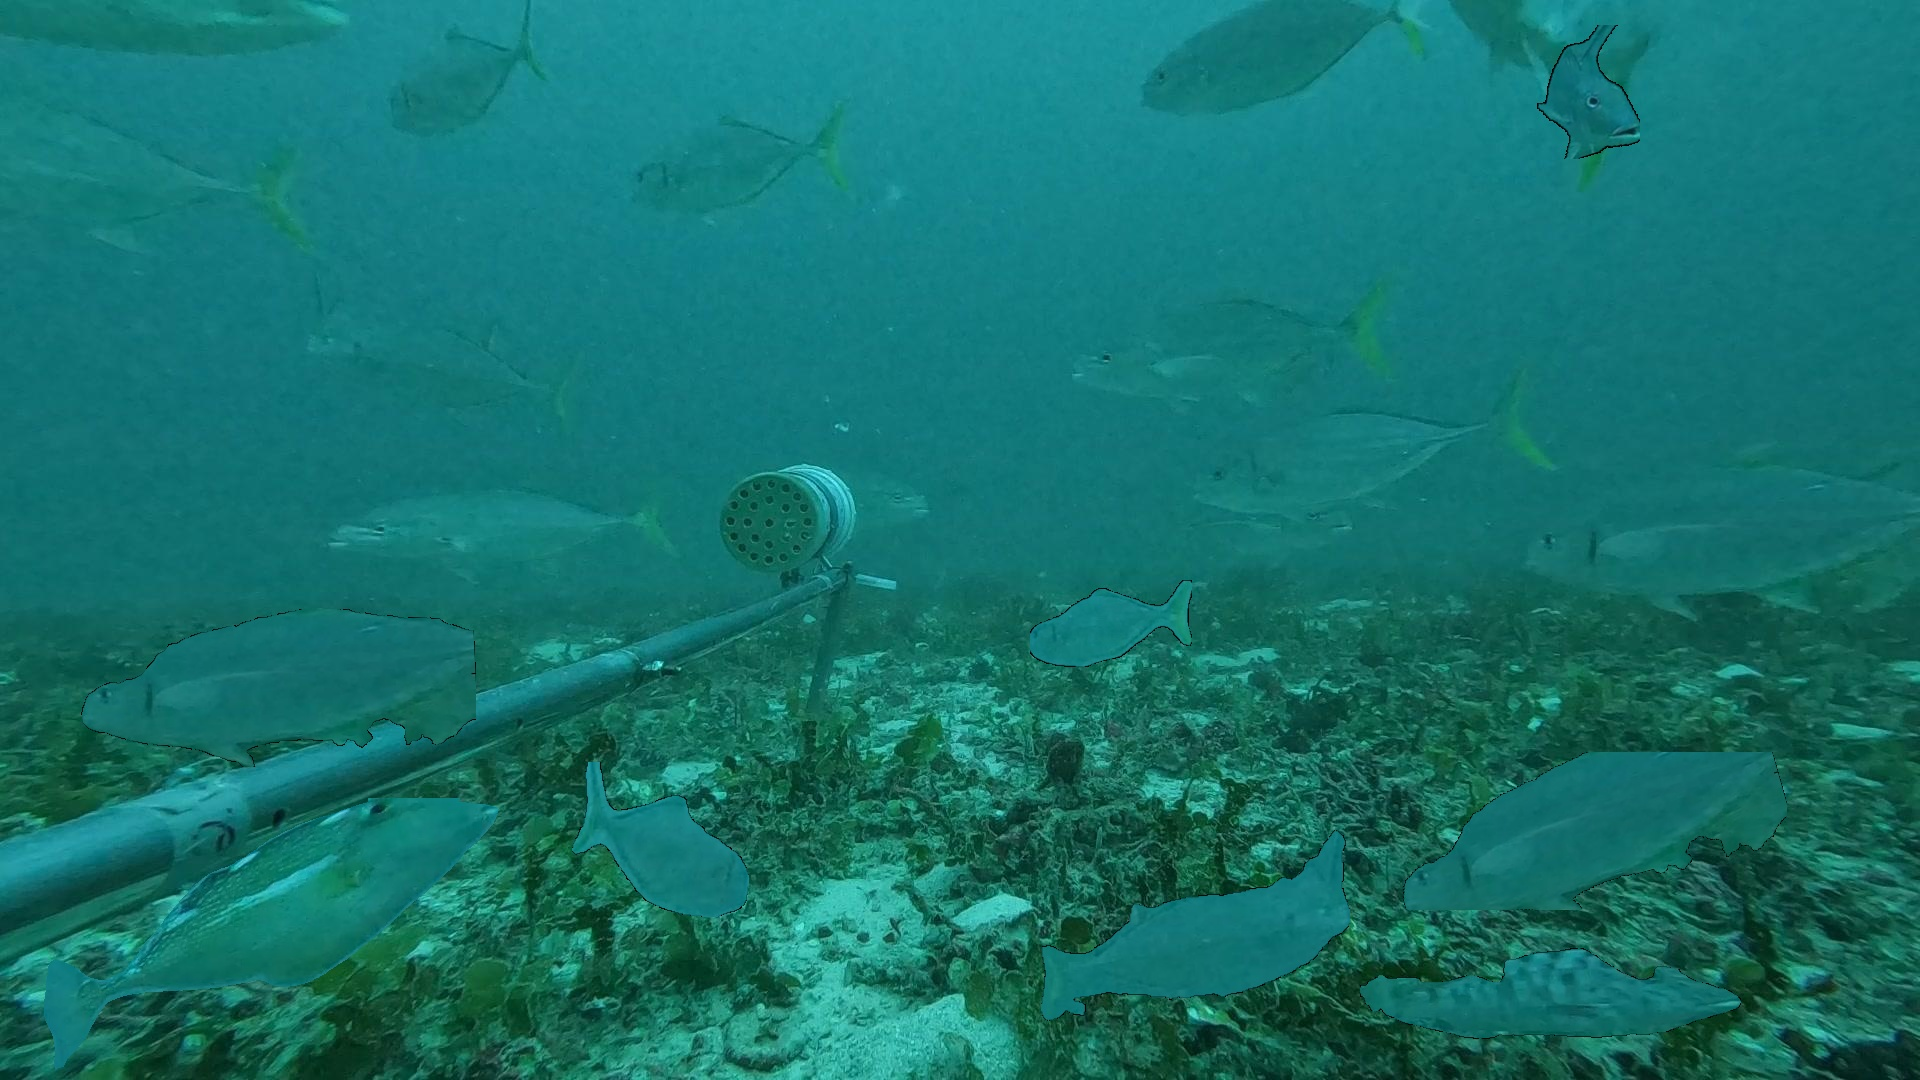fish: (44, 798, 498, 1069), (1526, 433, 1919, 650), (1189, 339, 1559, 560), (0, 91, 327, 319), (80, 609, 476, 767), (1393, 752, 1787, 910), (1054, 248, 1403, 423), (1040, 829, 1350, 1021), (280, 270, 589, 455), (1122, 3, 1447, 166), (315, 468, 683, 603), (615, 66, 866, 260), (1360, 948, 1741, 1039), (372, 1, 570, 167), (572, 762, 749, 916), (1030, 580, 1192, 667), (1536, 25, 1640, 160)
